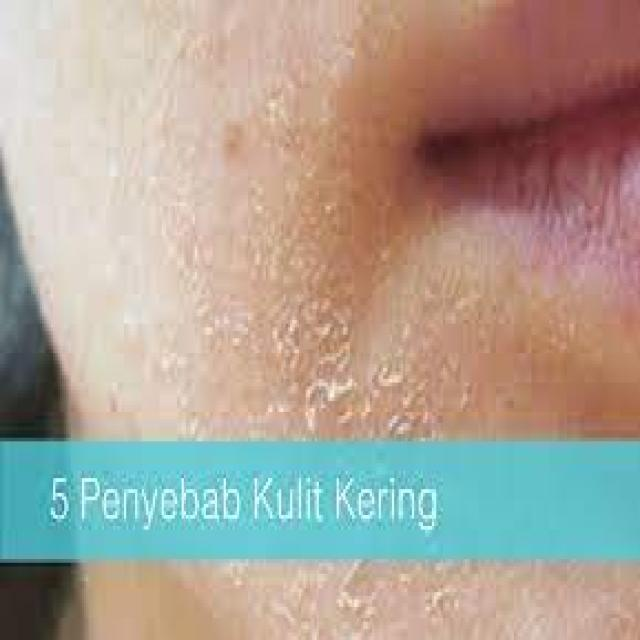Dry-Skin: (245, 318, 396, 411), (420, 309, 540, 368), (274, 211, 327, 304), (119, 73, 168, 164), (358, 202, 412, 266), (177, 244, 214, 329), (264, 92, 307, 154), (338, 584, 411, 608)
